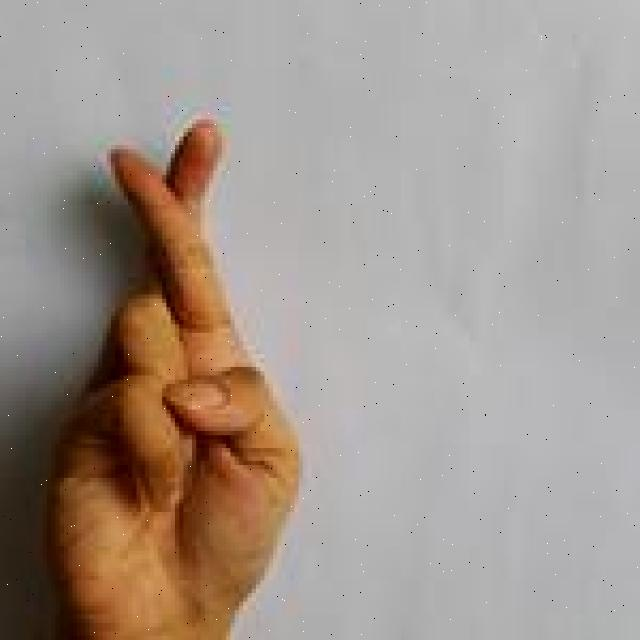R: (33, 115, 304, 640)
